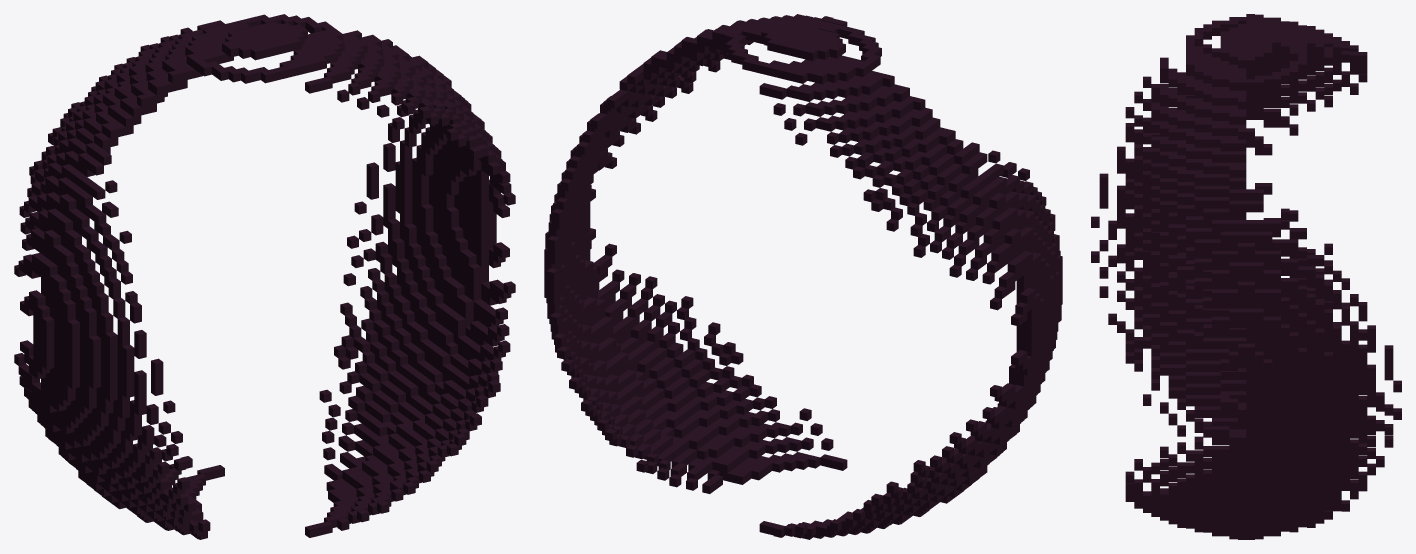
Rendered from Escudo.obj.
3 renders of one model, left to right at view 1: azimuth 30°, elevation 25°; view 2: azimuth 150°, elevation 25°; view 3: azimuth 270°, elevation 25°, orthographic. The views are drawn at different scales.
Bounding box in the file's own units: 6 × 5.8 × 3.6.
